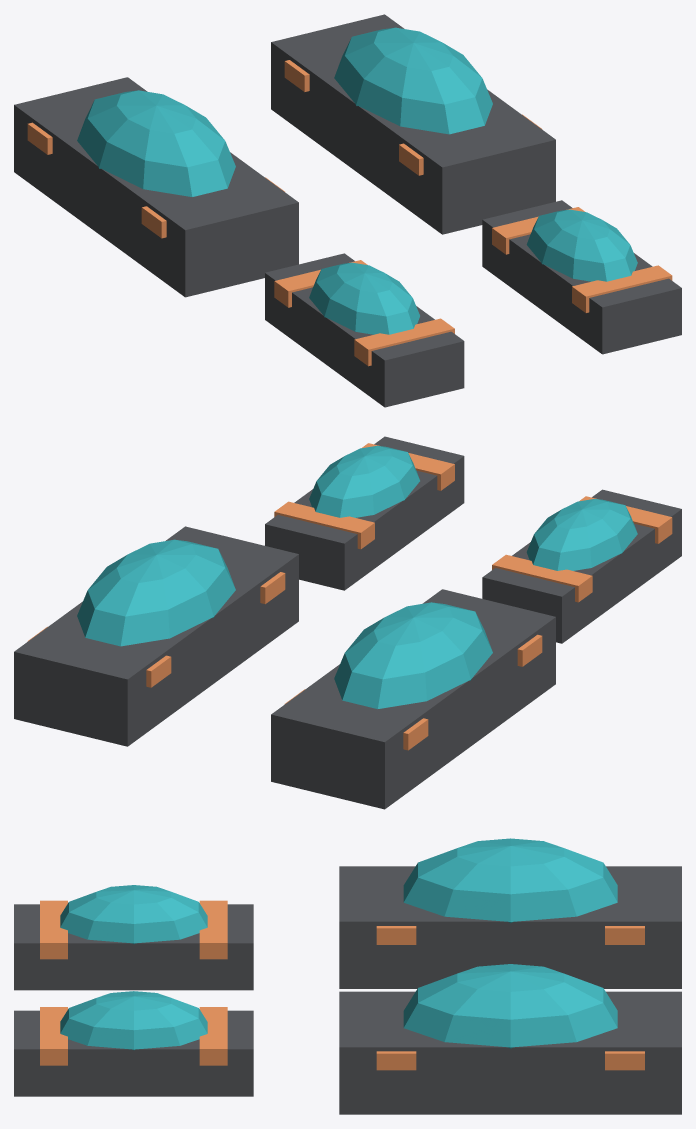
Rendered from skate-park-and-street-sports-knee-and-elbow-pad-set-c9198881__33535.glb.
3 views of the same model, one above another, from view 1: azimuth 30°, elevation 25°; view 2: azimuth 150°, elevation 25°; view 3: azimuth 270°, elevation 25° (orthographic).
Visible parts, largest first — view 1: knee-and-elbow-pad-set-charcoal, knee-and-elbow-pad-set-teal, knee-and-elbow-pad-set-sunset; view 2: knee-and-elbow-pad-set-charcoal, knee-and-elbow-pad-set-teal, knee-and-elbow-pad-set-sunset; view 3: knee-and-elbow-pad-set-charcoal, knee-and-elbow-pad-set-teal, knee-and-elbow-pad-set-sunset.
Part boxes in pixels (<box>): knee-and-elbow-pad-set-charcoal: <box>14,14,681,407</box>; knee-and-elbow-pad-set-teal: <box>77,27,637,334</box>; knee-and-elbow-pad-set-sunset: <box>27,60,672,366</box>; knee-and-elbow-pad-set-charcoal: <box>14,436,681,809</box>; knee-and-elbow-pad-set-teal: <box>77,445,637,708</box>; knee-and-elbow-pad-set-sunset: <box>27,443,672,750</box>; knee-and-elbow-pad-set-charcoal: <box>14,866,681,1114</box>; knee-and-elbow-pad-set-teal: <box>60,838,617,1050</box>; knee-and-elbow-pad-set-sunset: <box>40,900,644,1070</box>.
Size of the model in its own units: 0.385 by 0.1114 by 0.585.
